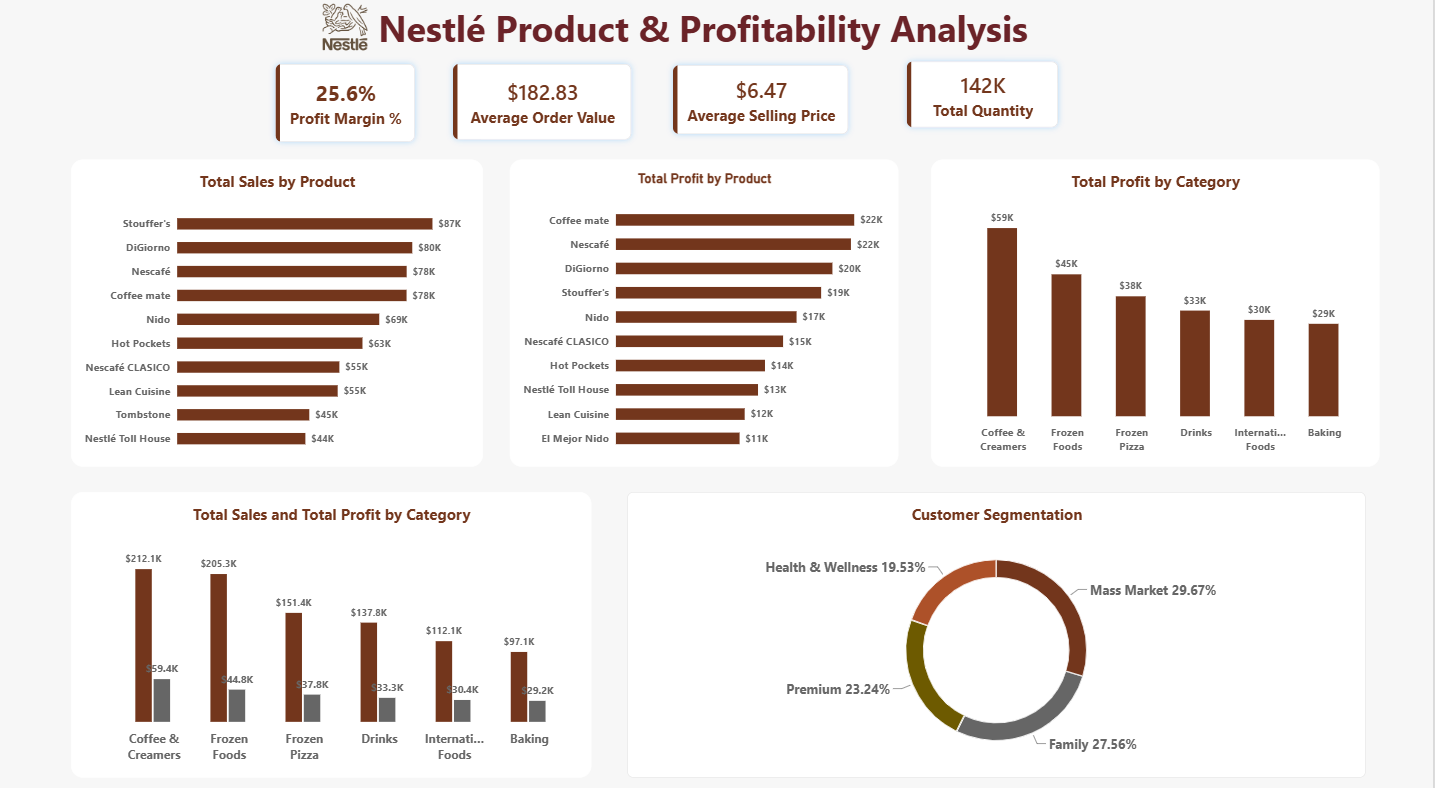

The dashboard page shown, as its layout file describes it:
{"tool":"powerbi","page":{"name":"Product & Profitability Analysis","canvas":[1920,1080],"ordinal":1},"visuals":[{"type":"cardVisual","fields":{"Data":["nestle sales data.Profit Margin %"]},"box":[361.9,85.1,208.1,126.7],"z":0},{"type":"cardVisual","fields":{"Data":["nestle sales data.Average Order Value"]},"box":[599,85.1,260.6,123.1],"z":1000},{"type":"cardVisual","fields":{"Data":["nestle sales data.Total Quantity"]},"box":[1205.2,81.4,224.4,110.4],"z":2000},{"type":"cardVisual","fields":{"Data":["nestle sales data.Average Selling Price"]},"box":[894,86.9,257,114],"z":3000},{"type":"barChart","fields":{"Category":["nestle sales data.Product"],"Y":["nestle sales data.Total Sales"]},"box":[99.5,224.4,550.1,410.8],"z":4000},{"type":"barChart","fields":{"Category":["nestle sales data.Product"],"Y":["nestle sales data.Total Profit"]},"box":[685.9,224.4,519.4,410.8],"z":5000},{"type":"clusteredColumnChart","fields":{"Category":["nestle sales data.Category"],"Y":["nestle sales data.Total Profit"]},"box":[1248.7,224.4,599,410.8],"z":6000},{"type":"clusteredColumnChart","fields":{"Category":["nestle sales data.Category"],"Y":["nestle sales data.Total Sales","nestle sales data.Total Profit"]},"box":[99.5,667.8,694.9,381.8],"z":7000},{"type":"textbox","box":[412.6,14.5,1064.1,67],"z":8000},{"type":"donutChart","title":"Customer Segmentation","fields":{"Category":["nestle sales data.Customer_Segment"],"Y":["nestle sales data.Total Customers"]},"box":[843.3,667.8,986.3,381.8],"z":9000},{"type":"image","box":[389.1,12.7,153.8,67],"z":11000}]}

Visuals, with their boxes in screenshot pixels (x1, y1, x2, y2), scaled from the page's 1920x1080 canvas onto the 1435x788 screenshot:
cardVisual - nestle sales data.Profit Margin %: <bbox>270, 62, 426, 155</bbox>
cardVisual - nestle sales data.Average Order Value: <bbox>448, 62, 642, 152</bbox>
cardVisual - nestle sales data.Total Quantity: <bbox>901, 59, 1068, 140</bbox>
cardVisual - nestle sales data.Average Selling Price: <bbox>668, 63, 860, 147</bbox>
barChart - nestle sales data.Product x nestle sales data.Total Sales: <bbox>74, 164, 486, 463</bbox>
barChart - nestle sales data.Product x nestle sales data.Total Profit: <bbox>513, 164, 901, 463</bbox>
clusteredColumnChart - nestle sales data.Category x nestle sales data.Total Profit: <bbox>933, 164, 1381, 463</bbox>
clusteredColumnChart - nestle sales data.Category x nestle sales data.Total Sales: <bbox>74, 487, 594, 766</bbox>
textbox: <bbox>308, 11, 1104, 59</bbox>
"Customer Segmentation" donutChart: <bbox>630, 487, 1367, 766</bbox>
image: <bbox>291, 9, 406, 58</bbox>
